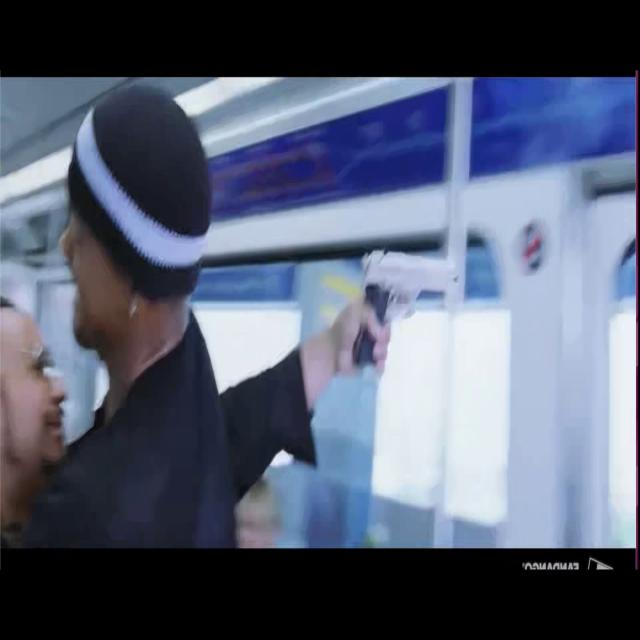weapons: (333, 226, 472, 392)
